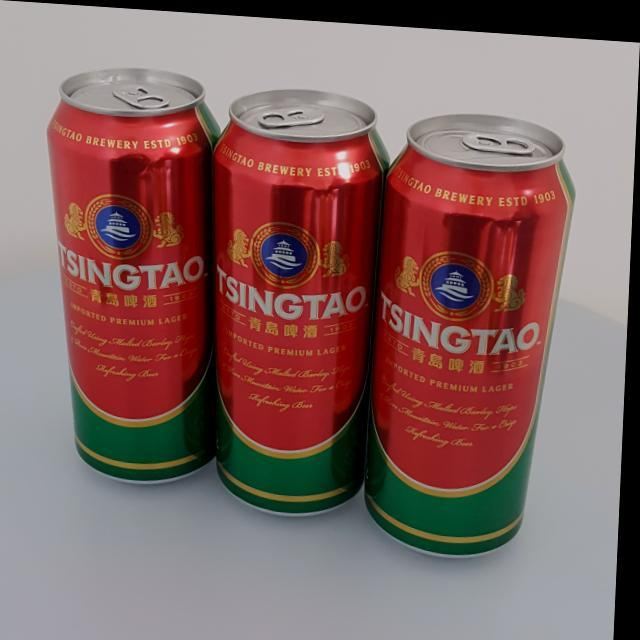beer-can: (365, 101, 580, 558), (201, 79, 394, 517), (36, 61, 233, 486)
